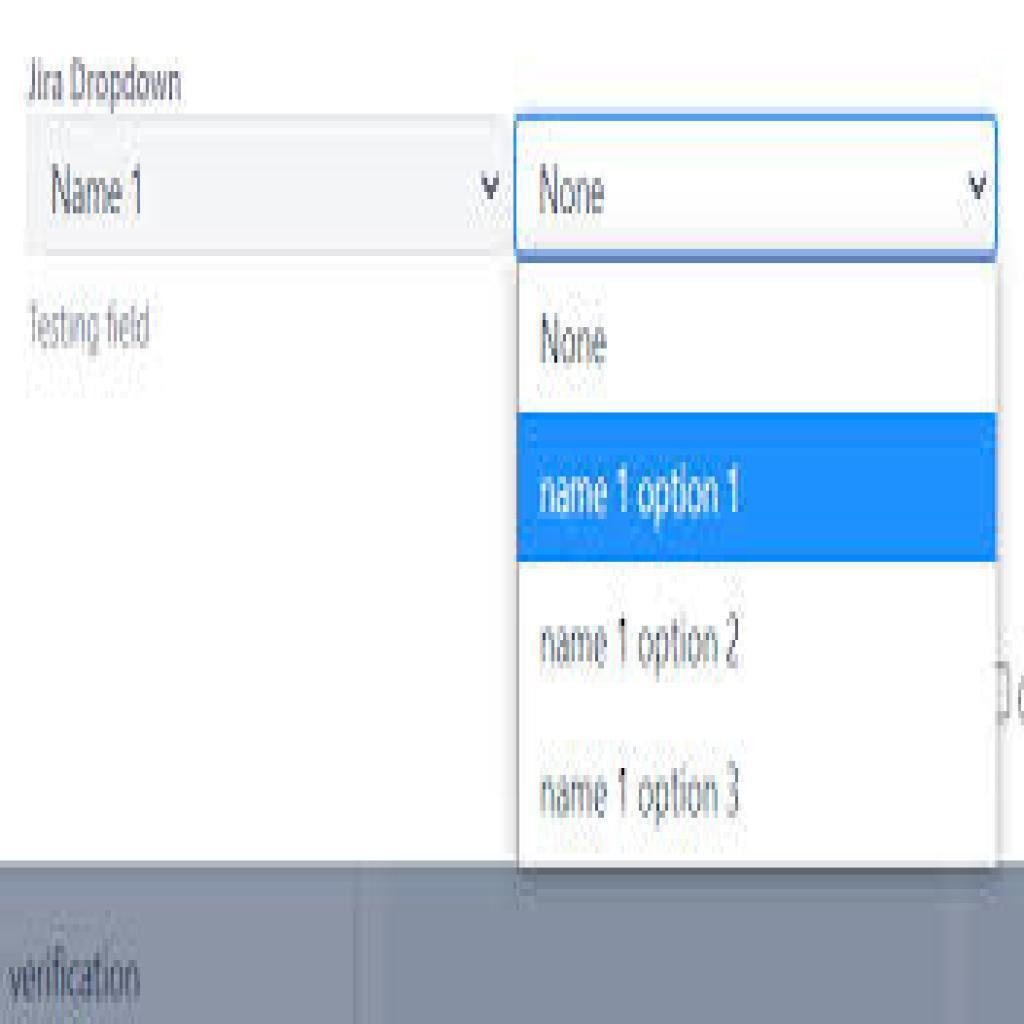button: (517, 411, 1000, 564)
dropdown: (515, 116, 994, 256), (36, 119, 510, 254)
